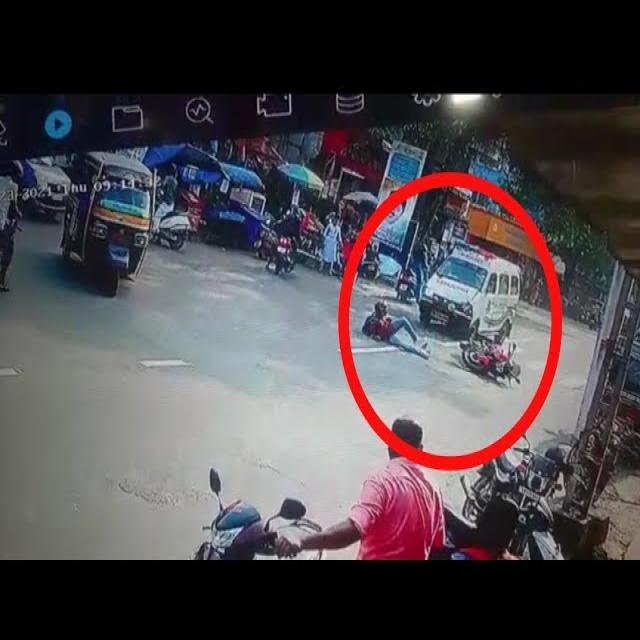autorickshaw: (62, 152, 152, 294)
emergency: (420, 245, 520, 338)
